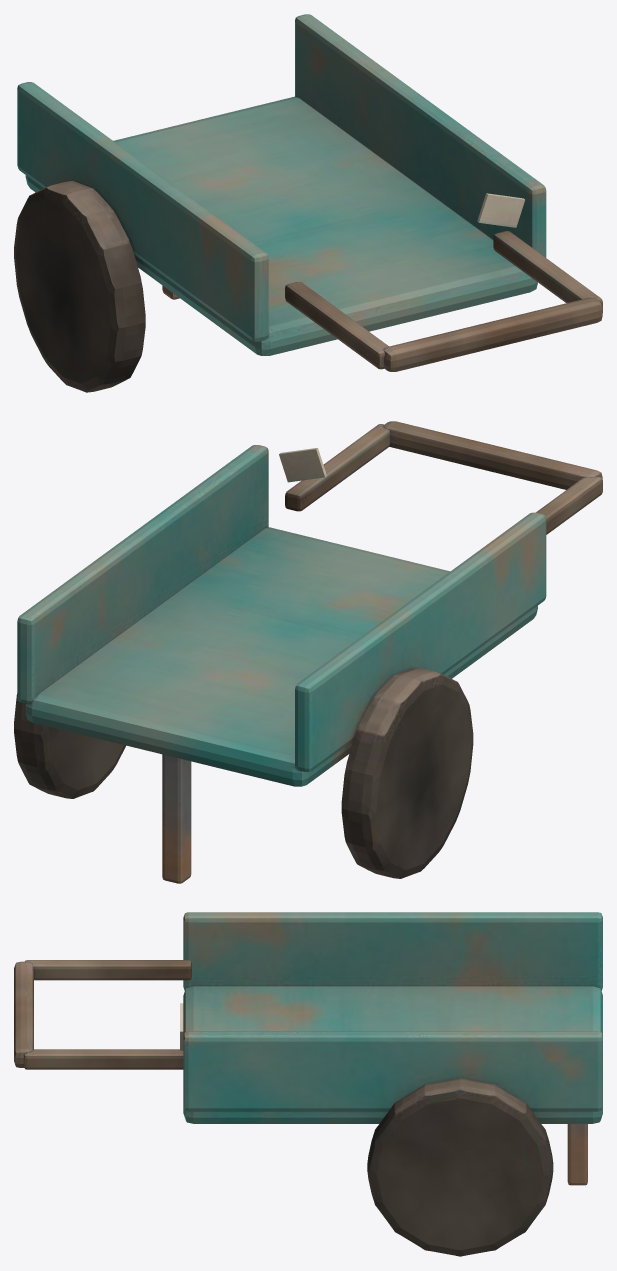
Rendered from equipment_handcart.glb.
The picture shows the model from 3 angles, top to bottom: view 1: azimuth 30°, elevation 25°; view 2: azimuth 150°, elevation 25°; view 3: azimuth 270°, elevation 25°; orthographic projection. The views are drawn at different scales.
Visible parts, largest first — view 1: Handcart_Mesh; view 2: Handcart_Mesh; view 3: Handcart_Mesh.
Part boxes in pixels (x1,y1,x2,y2): Handcart_Mesh: (14, 14, 602, 392); Handcart_Mesh: (14, 421, 602, 883); Handcart_Mesh: (14, 912, 602, 1256).
Size of the model in its own units: 1.09 by 0.7081 by 1.76.
1 material, 1 textured.
